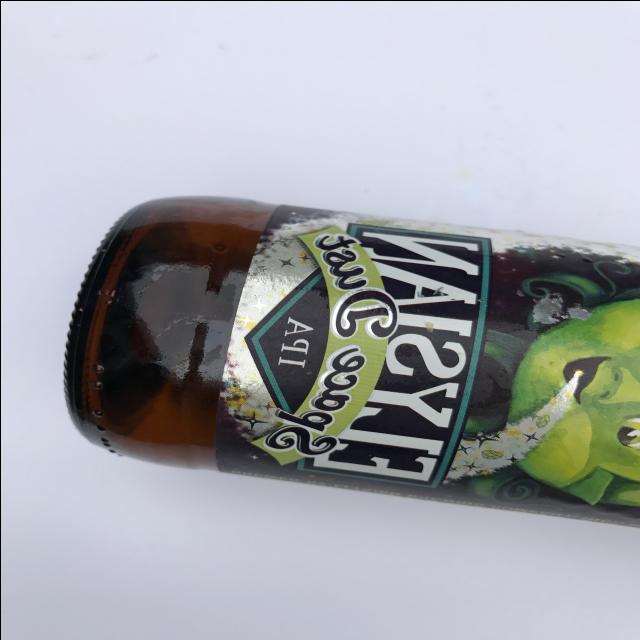glass: (61, 194, 640, 529)
